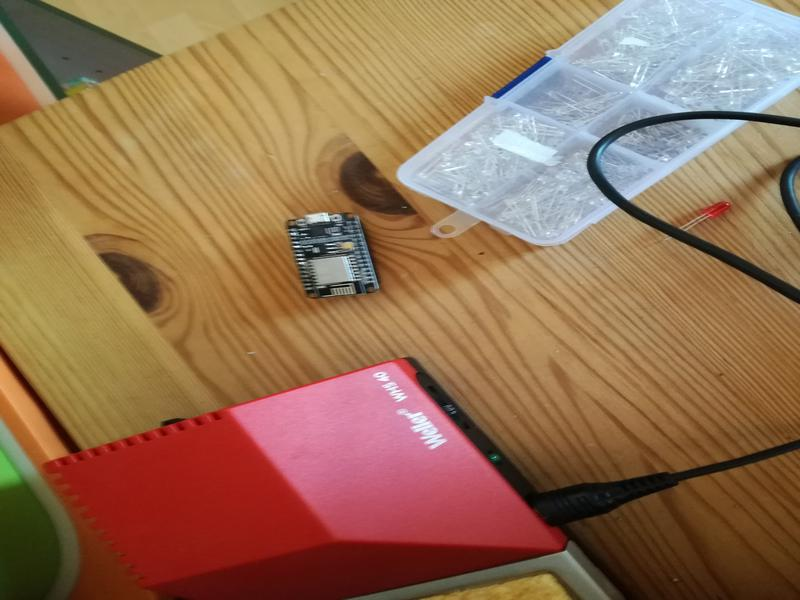ESP8266: (278, 206, 388, 301)
